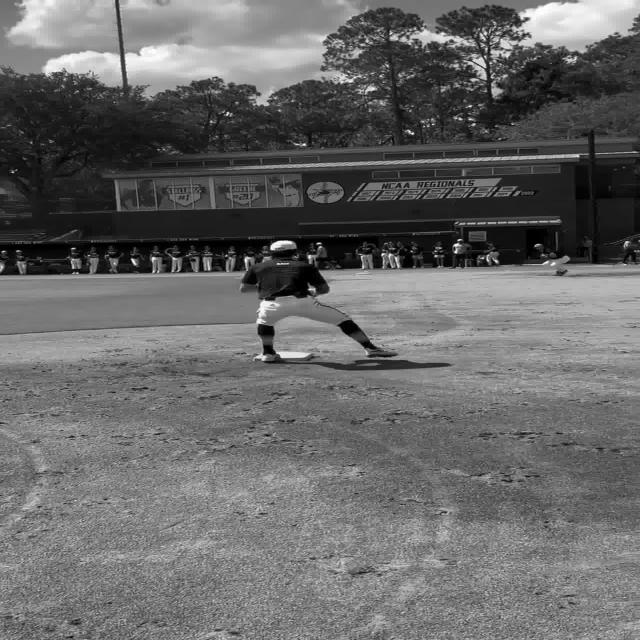base: (278, 351, 313, 361)
shoe: (365, 348, 398, 358), (256, 352, 282, 362)
